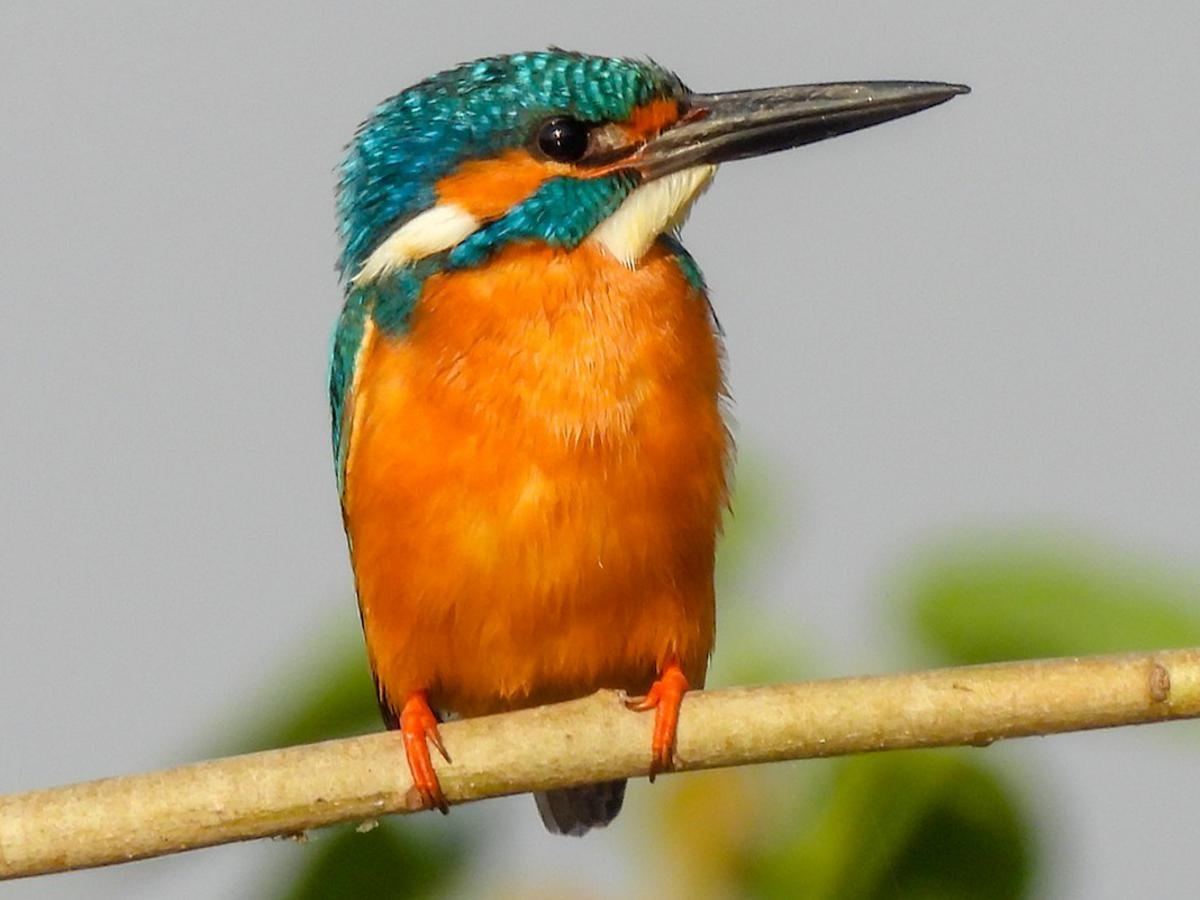kingfisher: (308, 25, 970, 748)
